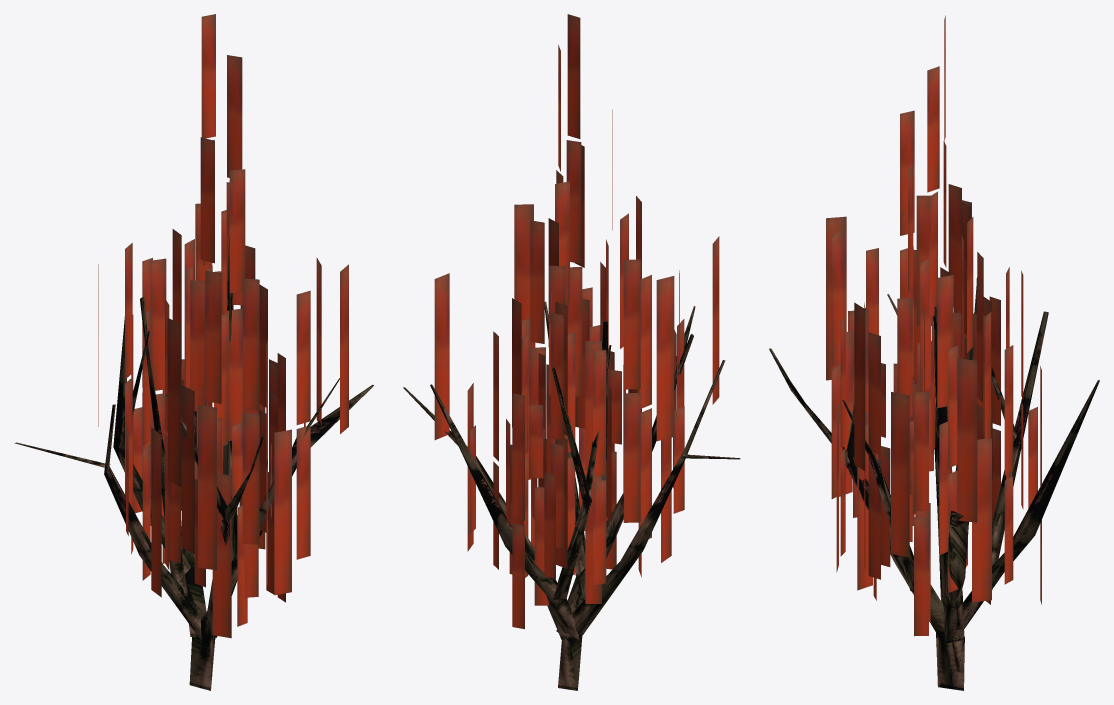
Rendered from RedTree_7.gltf.
3 views of the same model, side by side, from view 1: azimuth 30°, elevation 25°; view 2: azimuth 150°, elevation 25°; view 3: azimuth 270°, elevation 25° (orthographic).
Parts seen in each view (by area): view 1: RedTree_7; view 2: RedTree_7; view 3: RedTree_7.
Part boxes in pixels (left/top/right/bottom): RedTree_7: left=15, top=14, right=373, bottom=690; RedTree_7: left=403, top=14, right=740, bottom=690; RedTree_7: left=769, top=15, right=1099, bottom=690.
Bounding box in the file's own units: 3.58 × 6.58 × 2.94.
Materials: 89 (89 with a texture image).
